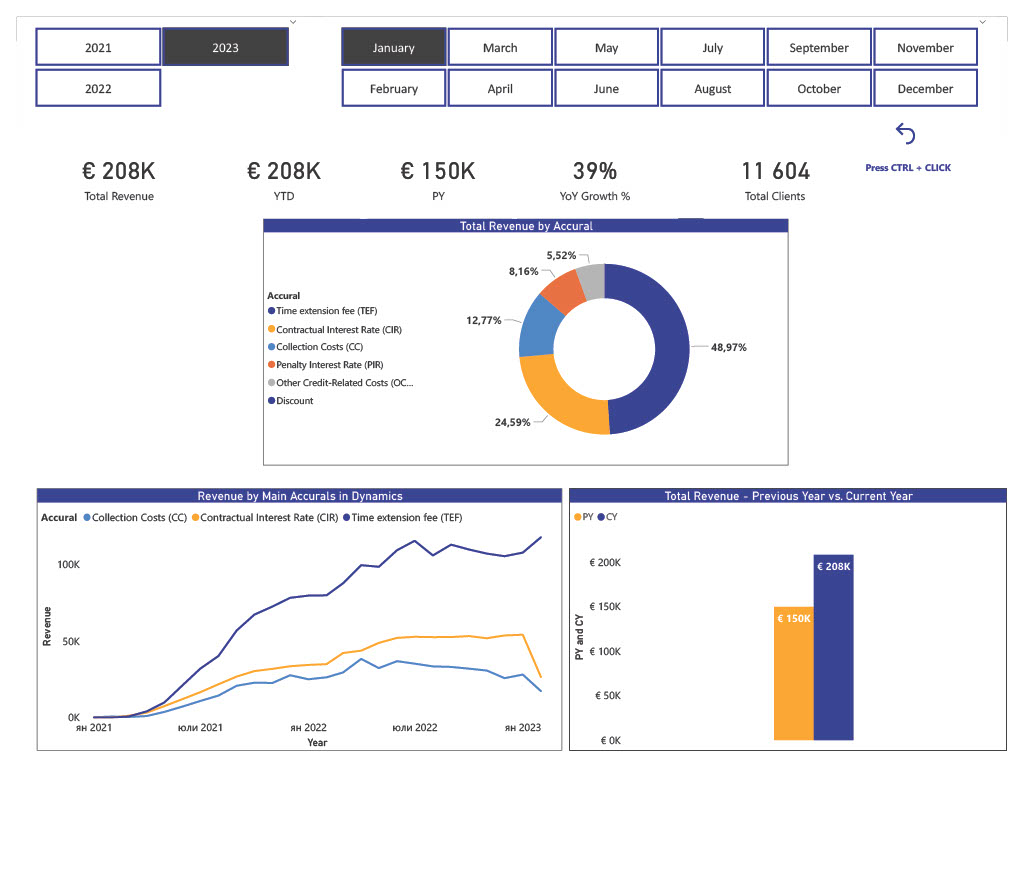

What the dashboard file says about the page in this screenshot:
{"tool":"powerbi","page":{"name":"Main KPIs","canvas":[1400,1200],"ordinal":5},"visuals":[{"type":"slicer","fields":{"Values":["CalendarTable.Date.Variation.Date Hierarchy.Year"]},"box":[0,0,408.4,133.6],"z":0,"group":"g1"},{"type":"donutChart","title":"Total Revenue by Accural (%)","fields":{"Y":["#Measure.TotalRevenue"],"Category":["FinanceCharges.Accural"]},"box":[365,303,743.7,350.1],"z":0},{"type":"slicer","fields":{"Values":["CalendarTable.Date.Variation.Date Hierarchy.Month"]},"box":[433.4,0,949.3,133.6],"z":1000,"group":"g1"},{"type":"clusteredColumnChart","title":"Total Revenue - Previous Year vs. Current Year (€ K)","fields":{"Y":["#Measure.PY","#Measure.TotalRevenue"]},"box":[780.5,666.2,619.8,370.9],"z":1000},{"type":"card","fields":{"Values":["#Measure.PY"]},"box":[484.4,164.5,222.7,120.6],"z":2000},{"type":"group","id":"g1","title":"Group 1","box":[0,0,1382.6,133.6],"z":3000},{"type":"card","fields":{"Values":["#Measure.YTD"]},"box":[261.2,163.8,233.4,120.6],"z":4000},{"type":"actionButton","box":[109.9,353.8,38.2,43.8],"z":5000},{"type":"card","fields":{"Values":["#Measure.YoY"]},"box":[700.2,163.8,234.9,120.6],"z":6000},{"type":"actionButton","box":[119.5,363.8,223.7,43.4],"z":7000},{"type":"textbox","box":[119,961.5,224,150],"z":8000},{"type":"textbox","box":[1191.5,197.7,143.4,40.2],"z":9000},{"type":"actionButton","box":[1236,144.5,53.2,40.2],"z":10000},{"type":"card","fields":{"Values":["#Measure.TotalRevenue"]},"box":[27.8,163.8,233.4,120.6],"z":11000},{"type":"lineChart","title":"Revenue by Main Accurals in Dynamics (€ K)","fields":{"Y":["#Measure.TotalRevenue_FILTERED"],"Category":["CalendarTable.Date.Variation.Date Hierarchy.Year","CalendarTable.Date.Variation.Date Hierarchy.Month"],"Series":["FinanceCharges.Accural"]},"box":[27.8,666.2,743.4,370.9],"z":12000},{"type":"card","fields":{"Values":["Sum(TotalClients.TotalClients)"]},"box":[935.1,165.1,234.6,120.6],"z":13000}]}

Visuals, with their boxes in screenshot pixels (x1, y1, x2, y2), scaled from the page's 1400x1200 canvas onto the 1024x883 screenshot:
slicer - CalendarTable.Date.Variation.Date Hierarchy.Year: [0, 0, 299, 98]
"Total Revenue by Accural (%)" donutChart: [267, 223, 811, 481]
slicer - CalendarTable.Date.Variation.Date Hierarchy.Month: [317, 0, 1011, 98]
"Total Revenue - Previous Year vs. Current Year (€ K)" clusteredColumnChart: [571, 490, 1023, 763]
card - #Measure.PY: [354, 121, 517, 210]
"Group 1" group: [0, 0, 1011, 98]
card - #Measure.YTD: [191, 121, 362, 209]
actionButton: [80, 260, 108, 293]
card - #Measure.YoY: [512, 121, 684, 209]
actionButton: [87, 268, 251, 300]
textbox: [87, 708, 251, 818]
textbox: [871, 145, 976, 175]
actionButton: [904, 106, 943, 136]
card - #Measure.TotalRevenue: [20, 121, 191, 209]
"Revenue by Main Accurals in Dynamics (€ K)" lineChart: [20, 490, 564, 763]
card - Sum(TotalClients.TotalClients): [684, 121, 856, 210]
